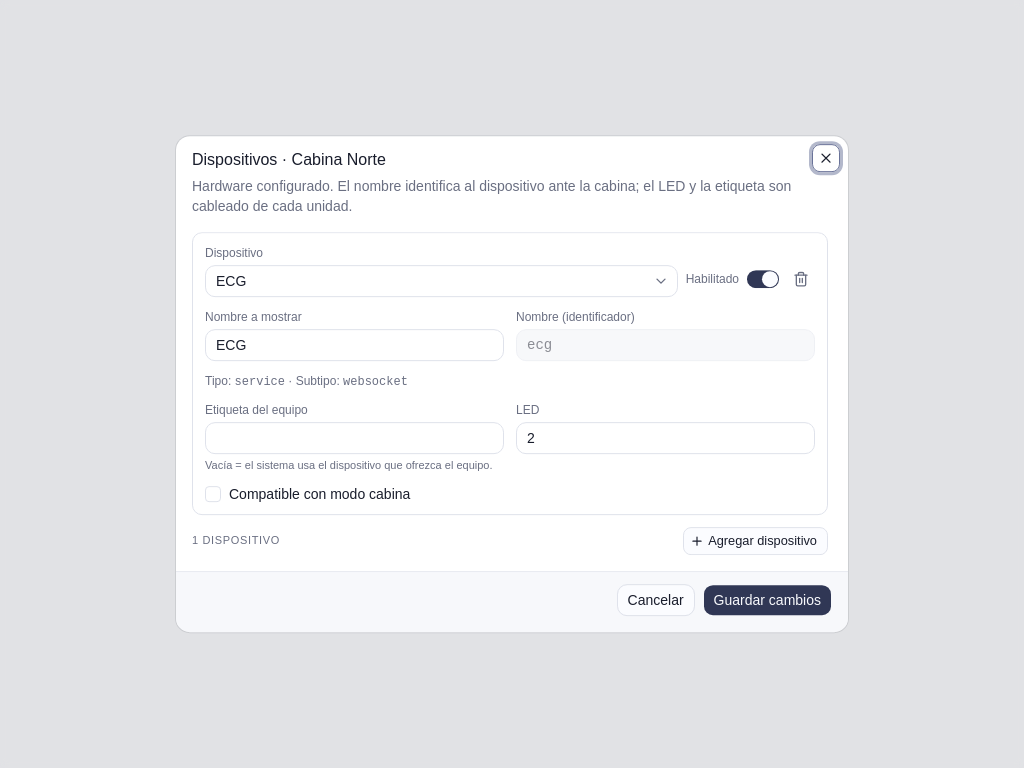
Scenario: KioskEditDialog › shows the devices and exams of the loaded kiosk and surfaces a backend error on save
Expected: the field labelled "Nombre a mostrar" holds "ECG", left=205, top=329, right=504, bottom=361
Expected: the field labelled "LED" holds "2", left=516, top=422, right=815, bottom=454
Click the button "Guardar cambios" at (767, 600), box left=703, top=584, right=832, bottom=616
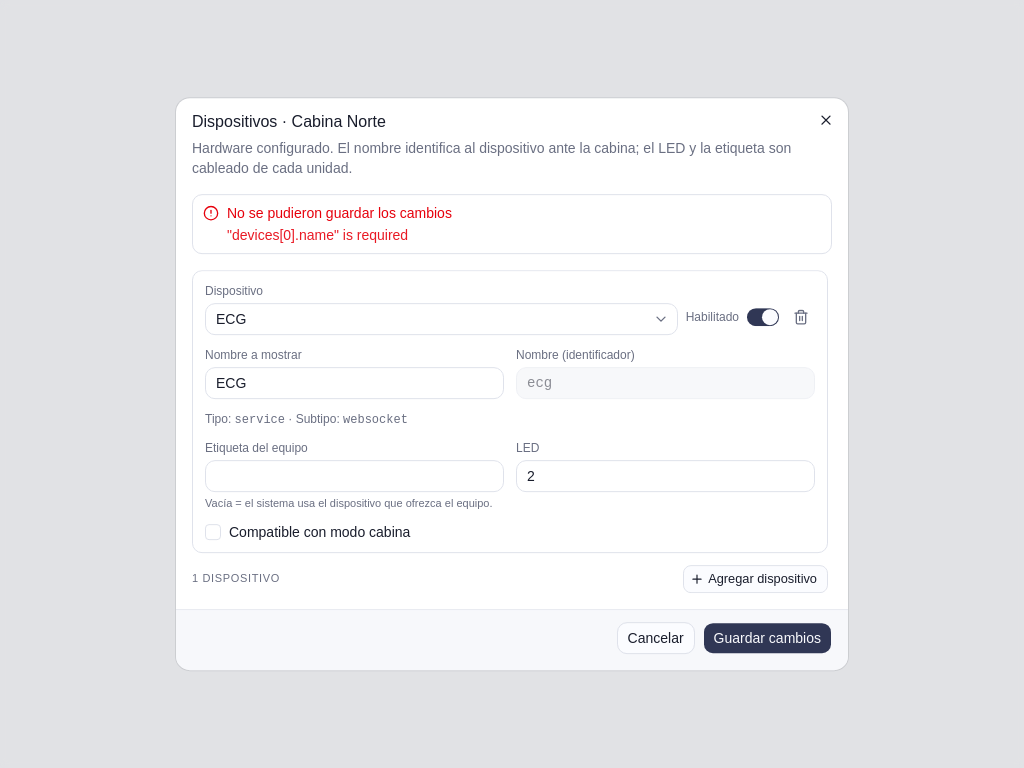
Expected: the message shows "\"devices[0].name\" is required", left=227, top=227, right=408, bottom=243
